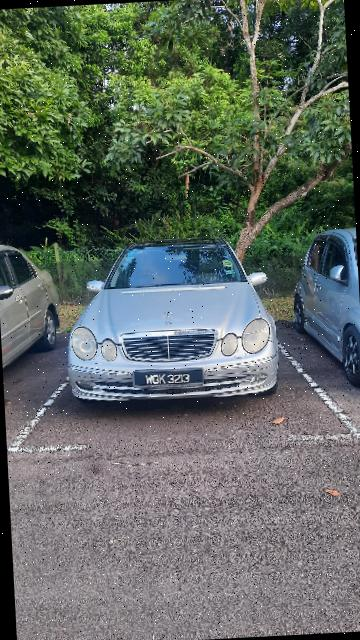License_Plate: (136, 367, 209, 392)
car: (63, 235, 286, 428)
